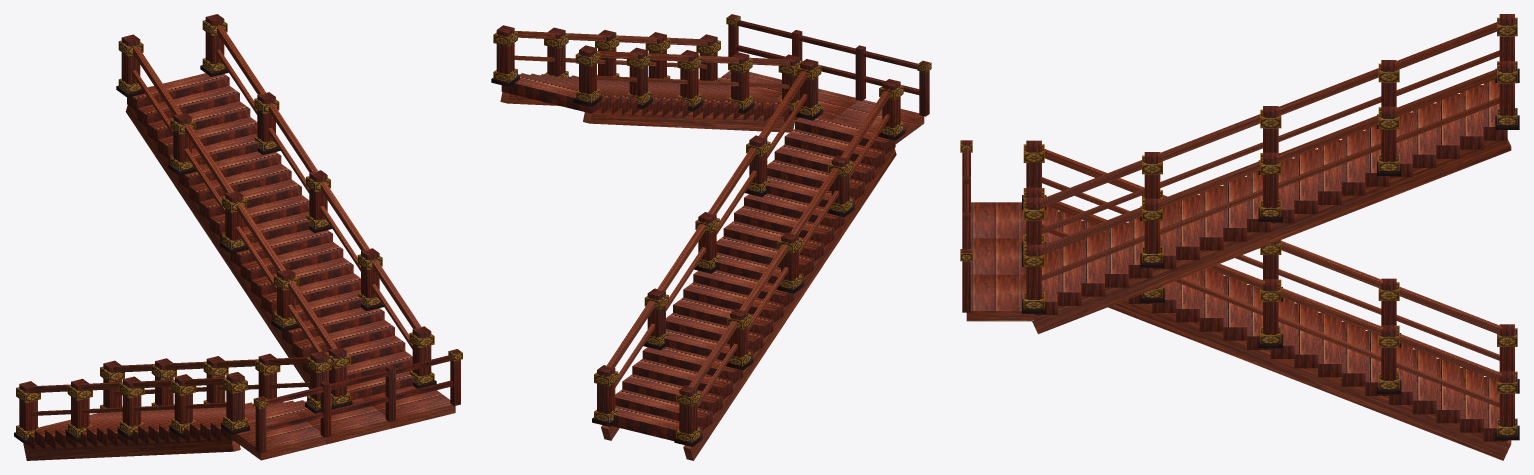
Rendered from PackSwitchbackStair.fbx.
The picture shows the model from 3 angles, left to right: view 1: azimuth 30°, elevation 25°; view 2: azimuth 150°, elevation 25°; view 3: azimuth 270°, elevation 25°; orthographic projection. The views are drawn at different scales.
Visible parts, largest first — view 1: Retopo_PackSwitchbackStair.001; view 2: Retopo_PackSwitchbackStair.001; view 3: Retopo_PackSwitchbackStair.001.
Boxes of the visible parts, <box> form: Retopo_PackSwitchbackStair.001: <box>14,14,462,460</box>; Retopo_PackSwitchbackStair.001: <box>491,14,931,460</box>; Retopo_PackSwitchbackStair.001: <box>960,14,1519,460</box>.
Size of the model in its own units: 400 by 738 by 827.
1 material, 1 textured.
